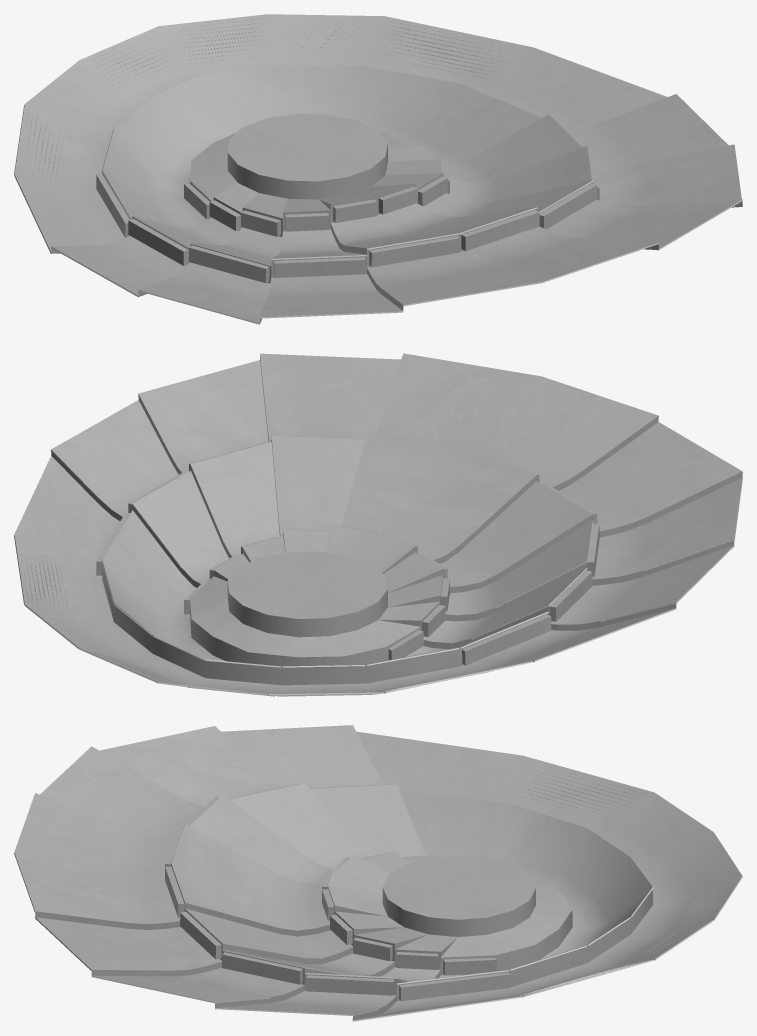
The model's file is SM_SceneMesh_Ceiling_01.fbx.
The picture shows the model from 3 angles, top to bottom: view 1: azimuth 30°, elevation 25°; view 2: azimuth 150°, elevation 25°; view 3: azimuth 270°, elevation 25°; orthographic projection. The views are drawn at different scales.
Visible parts, largest first — view 1: SM_SceneMesh_Ceiling_01_LOD0; view 2: SM_SceneMesh_Ceiling_01_LOD0; view 3: SM_SceneMesh_Ceiling_01_LOD0.
Part boxes in pixels (left/top/right/bottom): SM_SceneMesh_Ceiling_01_LOD0: left=14, top=14, right=742, bottom=324; SM_SceneMesh_Ceiling_01_LOD0: left=14, top=353, right=742, bottom=696; SM_SceneMesh_Ceiling_01_LOD0: left=14, top=725, right=742, bottom=1021.
Bounding box in the file's own units: 5242 × 5568 × 666.
